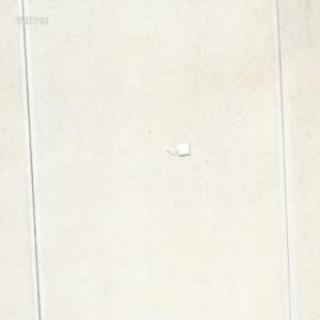LuggageTagtrack_idkeyframe: (163, 140, 189, 158)
